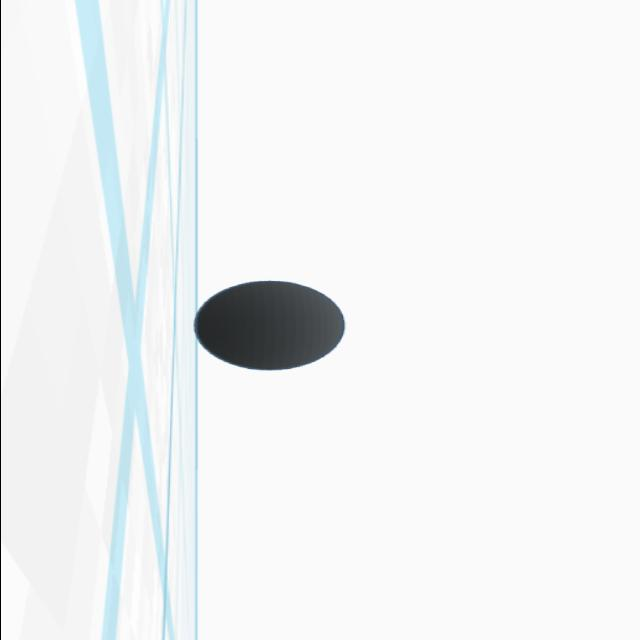sphere: (189, 278, 350, 372)
